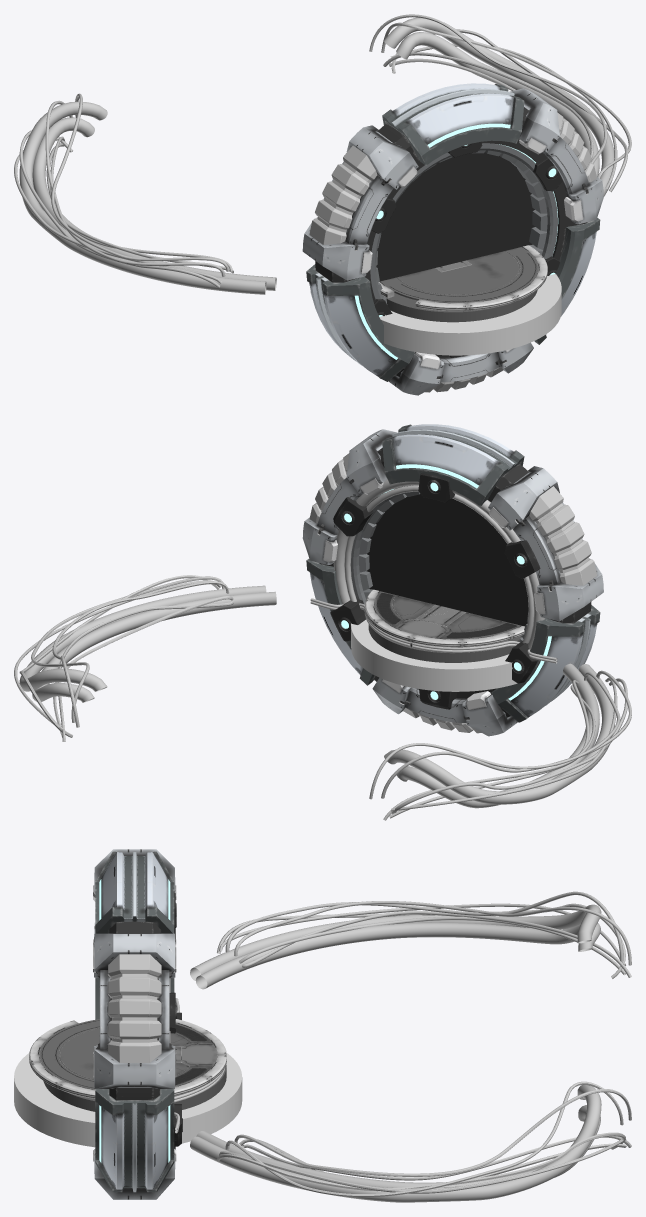
The model's file is Stage_Export.fbx.
3 views of the same model, one above another, from view 1: azimuth 30°, elevation 25°; view 2: azimuth 150°, elevation 25°; view 3: azimuth 270°, elevation 25° (orthographic). The views are drawn at different scales.
Visible parts, largest first — view 1: Cylinder.015, BigRing.002, Plane.008, Retopo_BezierCurve, Cylinder.068, Cylinder.066, Retopo_BezierCurve.004, Retopo_BezierCurve.001, Retopo_BezierCurve.008, Cylinder.070, Cylinder.069, Cylinder.063 (+1 smaller); view 2: Cylinder.015, BigRing.002, Plane.008, Cylinder.066, Retopo_BezierCurve, Retopo_BezierCurve.001, Retopo_BezierCurve.008, Retopo_BezierCurve.004, Cylinder.068, BezierCircle.007, Cylinder.071, Cylinder.063 (+5 smaller); view 3: BigRing.002, Cylinder.015, Retopo_BezierCurve, Retopo_BezierCurve.004, Retopo_BezierCurve.008, Retopo_BezierCurve.001, Cylinder.068, Cylinder.069, Cylinder.071, Cylinder.070, Cylinder.063, Cube.032 (+1 smaller).
Boxes of the visible parts, <box> form: Cylinder.015: <box>302,88,603,395</box>; BigRing.002: <box>306,83,600,381</box>; Plane.008: <box>376,152,535,281</box>; Retopo_BezierCurve: <box>19,17,614,294</box>; Cylinder.068: <box>379,274,561,355</box>; Cylinder.066: <box>370,141,562,357</box>; Retopo_BezierCurve.004: <box>369,14,631,192</box>; Retopo_BezierCurve.001: <box>32,32,599,290</box>; Retopo_BezierCurve.008: <box>14,93,233,287</box>; Cylinder.070: <box>397,251,519,294</box>; Cylinder.069: <box>380,247,538,302</box>; Cylinder.063: <box>384,268,537,322</box>; Cylinder.015: <box>302,429,603,736</box>; BigRing.002: <box>306,424,600,722</box>; Plane.008: <box>366,494,528,636</box>; Cylinder.066: <box>330,473,540,709</box>; Retopo_BezierCurve: <box>19,585,614,804</box>; Retopo_BezierCurve.001: <box>32,591,599,808</box>; Retopo_BezierCurve.008: <box>369,670,631,820</box>; Retopo_BezierCurve.004: <box>14,575,233,741</box>; Cylinder.068: <box>351,619,517,691</box>; BezierCircle.007: <box>333,479,545,649</box>; Cylinder.071: <box>365,589,524,647</box>; Cylinder.063: <box>368,605,521,662</box>; BigRing.002: <box>95,851,174,1192</box>; Cylinder.015: <box>93,849,176,1199</box>; Retopo_BezierCurve: <box>190,904,601,1202</box>; Retopo_BezierCurve.004: <box>217,1081,631,1197</box>; Retopo_BezierCurve.008: <box>217,891,631,978</box>; Retopo_BezierCurve.001: <box>196,922,600,1187</box>; Cylinder.068: <box>14,1053,242,1147</box>; Cylinder.069: <box>39,1019,212,1089</box>; Cylinder.071: <box>29,1019,226,1098</box>; Cylinder.070: <box>59,1028,190,1079</box>; Cylinder.063: <box>43,1054,226,1111</box>; Cube.032: <box>182,1043,217,1066</box>.
Size of the model in its own units: 10127 by 5165 by 9203.
